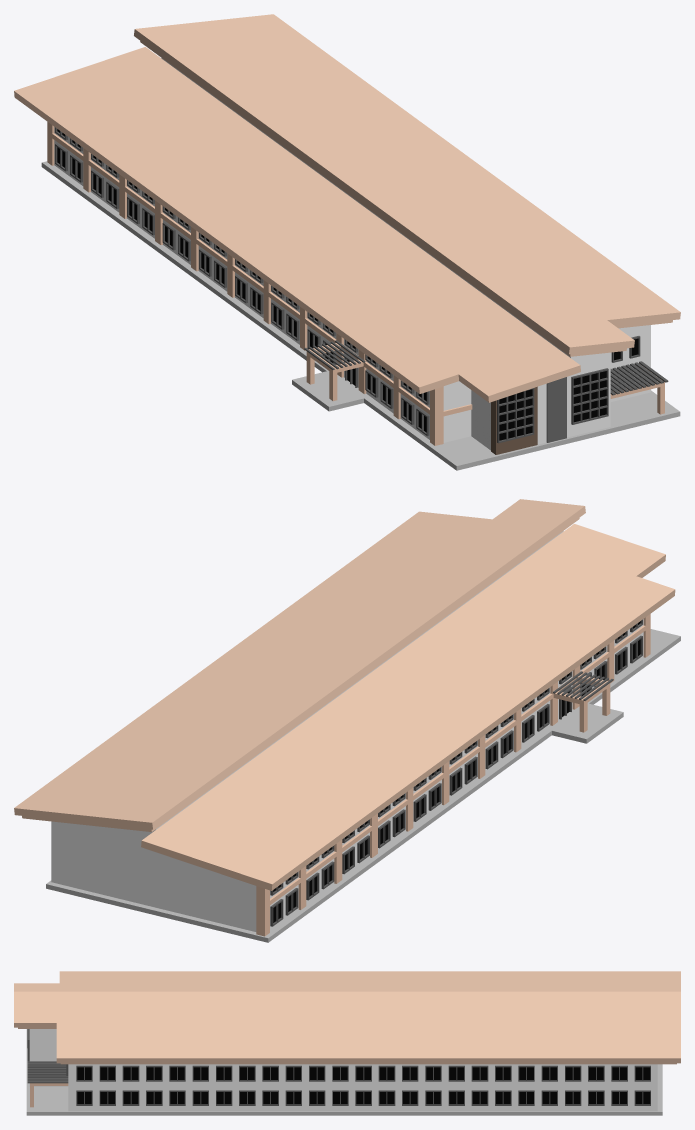
File: AcaciaHall.glb
3 views of the same model, one above another, from view 1: azimuth 30°, elevation 25°; view 2: azimuth 150°, elevation 25°; view 3: azimuth 270°, elevation 25° (orthographic). The views are drawn at different scales.
Visible parts, largest first — view 1: cube.025; view 2: cube.025; view 3: cube.025.
Boxes of the visible parts, <box> form: cube.025: <box>14,14,680,470</box>; cube.025: <box>14,499,680,942</box>; cube.025: <box>14,971,680,1115</box>.
Bounding box in the file's own units: 3.98 × 1.42 × 10.75.
9 materials, 8 textured.
